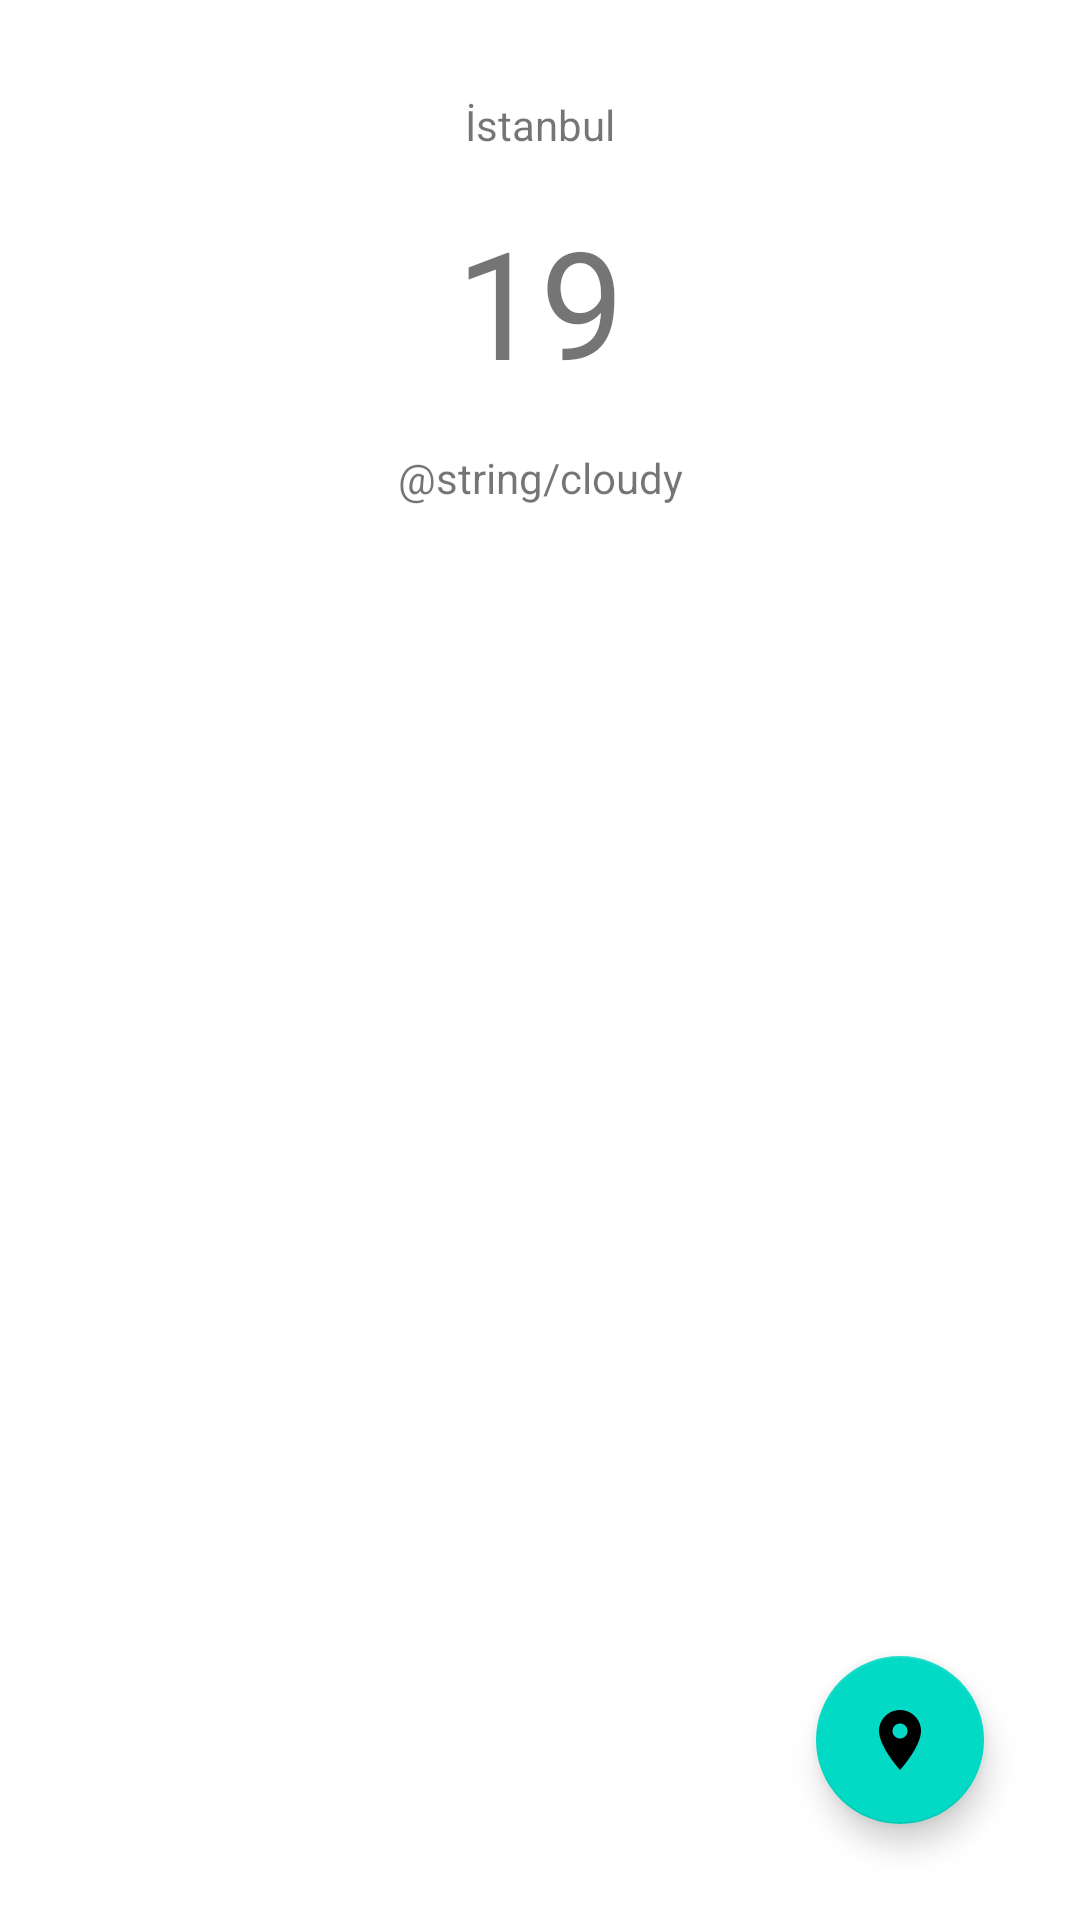

Named icons in this screenshot (1080x1920) and their centers, (x=x, y=y):
location on: (x=900, y=1740)
